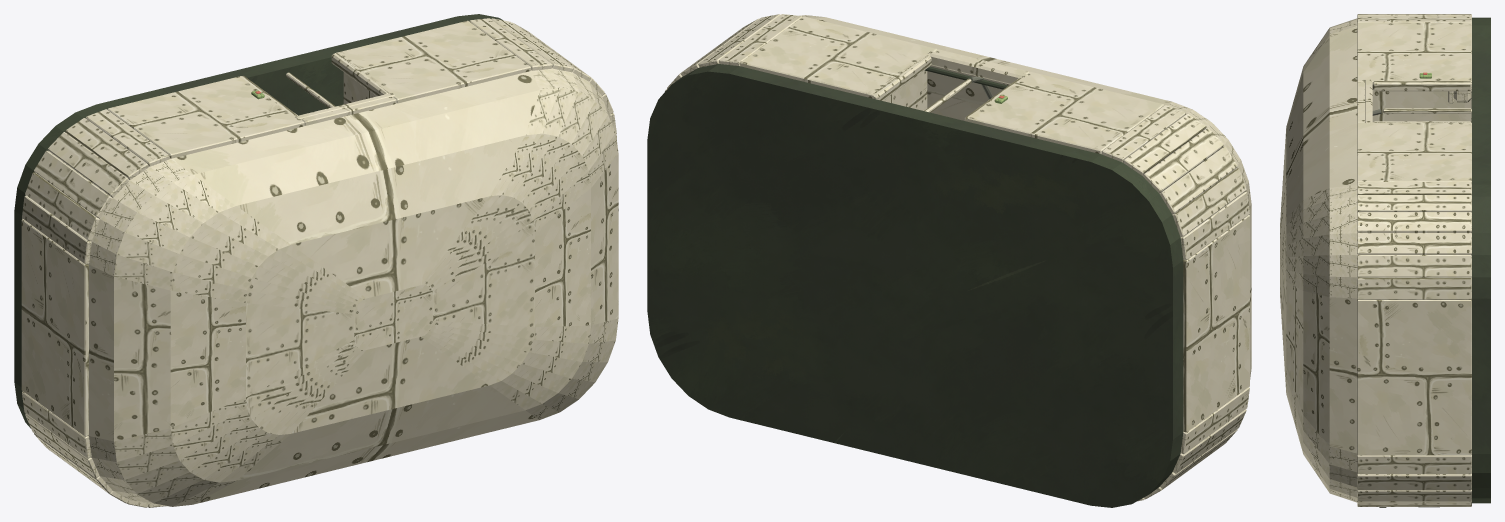
The model's file is ECHO7_06_Dormitorios_Sanitarios.obj.
3 views of the same model, side by side, from view 1: azimuth 30°, elevation 25°; view 2: azimuth 150°, elevation 25°; view 3: azimuth 270°, elevation 25° (orthographic). The views are drawn at different scales.
Parts seen in each view (by area): view 1: ECHO7_06_Dormitorios_Sanitarios__Techo_curvo_49, ECHO7_06_Dormitorios_Sanitarios__Techo_curvo_77, ECHO7_06_Dormitorios_Sanitarios__Pared_presion_27, ECHO7_06_Dormitorios_Sanitarios__Suelo_modulo_01, ECHO7_06_Dormitorios_Sanitarios__Techo_curvo_105, ECHO7_06_Dormitorios_Sanitarios__Pared_frente_01, ECHO7_06_Dormitorios_Sanitarios__Techo_curvo_84, ECHO7_06_Dormitorios_Sanitarios__Pared_frente_02, ECHO7_06_Dormitorios_Sanitarios__Techo_curvo_56, ECHO7_06_Dormitorios_Sanitarios__Techo_curvo_63, ECHO7_06_Dormitorios_Sanitarios__Techo_curvo_91, ECHO7_06_Dormitorios_Sanitarios__Techo_curvo_21 (+81 smaller); view 2: ECHO7_06_Dormitorios_Sanitarios__Suelo_modulo_01, ECHO7_06_Dormitorios_Sanitarios__Pared_presion_27, ECHO7_06_Dormitorios_Sanitarios__Pared_frente_02, ECHO7_06_Dormitorios_Sanitarios__Pared_frente_01, ECHO7_06_Dormitorios_Sanitarios__Pared_presion_24, ECHO7_06_Dormitorios_Sanitarios__Pared_presion_23, ECHO7_06_Dormitorios_Sanitarios__Pared_presion_25, ECHO7_06_Dormitorios_Sanitarios__Pared_presion_22, ECHO7_06_Dormitorios_Sanitarios__Techo_curvo_21, ECHO7_06_Dormitorios_Sanitarios__Pared_presion_26, ECHO7_06_Dormitorios_Sanitarios__Pared_presion_21, ECHO7_06_Dormitorios_Sanitarios__Pared_presion_01 (+8 smaller); view 3: ECHO7_06_Dormitorios_Sanitarios__Pared_presion_14, ECHO7_06_Dormitorios_Sanitarios__Suelo_modulo_01, ECHO7_06_Dormitorios_Sanitarios__Pared_frente_01, ECHO7_06_Dormitorios_Sanitarios__Pared_frente_02, ECHO7_06_Dormitorios_Sanitarios__Techo_curvo_21, ECHO7_06_Dormitorios_Sanitarios__Techo_curvo_14, ECHO7_06_Dormitorios_Sanitarios__Techo_curvo_49, ECHO7_06_Dormitorios_Sanitarios__Techo_curvo_42, ECHO7_06_Dormitorios_Sanitarios__Pared_presion_15, ECHO7_06_Dormitorios_Sanitarios__Pared_presion_16, ECHO7_06_Dormitorios_Sanitarios__Pared_presion_17, ECHO7_06_Dormitorios_Sanitarios__Pared_presion_27 (+39 smaller).
Part boxes in pixels (x1,y1,x2,y2): ECHO7_06_Dormitorios_Sanitarios__Techo_curvo_49: [193, 90, 539, 205]; ECHO7_06_Dormitorios_Sanitarios__Techo_curvo_77: [237, 135, 525, 244]; ECHO7_06_Dormitorios_Sanitarios__Pared_presion_27: [21, 219, 88, 436]; ECHO7_06_Dormitorios_Sanitarios__Suelo_modulo_01: [14, 14, 502, 428]; ECHO7_06_Dormitorios_Sanitarios__Techo_curvo_105: [291, 196, 489, 298]; ECHO7_06_Dormitorios_Sanitarios__Pared_frente_01: [335, 20, 531, 103]; ECHO7_06_Dormitorios_Sanitarios__Techo_curvo_84: [170, 290, 245, 427]; ECHO7_06_Dormitorios_Sanitarios__Pared_frente_02: [107, 76, 304, 158]; ECHO7_06_Dormitorios_Sanitarios__Techo_curvo_56: [114, 276, 170, 441]; ECHO7_06_Dormitorios_Sanitarios__Techo_curvo_63: [237, 385, 524, 480]; ECHO7_06_Dormitorios_Sanitarios__Techo_curvo_91: [291, 337, 489, 433]; ECHO7_06_Dormitorios_Sanitarios__Techo_curvo_21: [171, 71, 539, 174]; ECHO7_06_Dormitorios_Sanitarios__Suelo_modulo_01: [647, 64, 1183, 507]; ECHO7_06_Dormitorios_Sanitarios__Pared_presion_27: [1183, 215, 1249, 432]; ECHO7_06_Dormitorios_Sanitarios__Pared_frente_02: [967, 72, 1164, 154]; ECHO7_06_Dormitorios_Sanitarios__Pared_frente_01: [740, 16, 937, 98]; ECHO7_06_Dormitorios_Sanitarios__Pared_presion_24: [1159, 146, 1237, 214]; ECHO7_06_Dormitorios_Sanitarios__Pared_presion_23: [1143, 128, 1223, 193]; ECHO7_06_Dormitorios_Sanitarios__Pared_presion_25: [1172, 168, 1246, 236]; ECHO7_06_Dormitorios_Sanitarios__Pared_presion_22: [1123, 113, 1206, 175]; ECHO7_06_Dormitorios_Sanitarios__Techo_curvo_21: [814, 17, 1172, 105]; ECHO7_06_Dormitorios_Sanitarios__Pared_presion_26: [1180, 191, 1249, 260]; ECHO7_06_Dormitorios_Sanitarios__Pared_presion_21: [1101, 105, 1185, 162]; ECHO7_06_Dormitorios_Sanitarios__Pared_presion_01: [1180, 387, 1249, 454]; ECHO7_06_Dormitorios_Sanitarios__Pared_presion_14: [1357, 299, 1471, 455]; ECHO7_06_Dormitorios_Sanitarios__Suelo_modulo_01: [1472, 17, 1490, 503]; ECHO7_06_Dormitorios_Sanitarios__Pared_frente_01: [1357, 122, 1471, 182]; ECHO7_06_Dormitorios_Sanitarios__Pared_frente_02: [1357, 22, 1471, 82]; ECHO7_06_Dormitorios_Sanitarios__Techo_curvo_21: [1329, 26, 1357, 187]; ECHO7_06_Dormitorios_Sanitarios__Techo_curvo_14: [1329, 297, 1357, 453]; ECHO7_06_Dormitorios_Sanitarios__Techo_curvo_49: [1303, 35, 1329, 199]; ECHO7_06_Dormitorios_Sanitarios__Techo_curvo_42: [1303, 291, 1329, 445]; ECHO7_06_Dormitorios_Sanitarios__Pared_presion_15: [1357, 277, 1471, 299]; ECHO7_06_Dormitorios_Sanitarios__Pared_presion_16: [1357, 255, 1471, 277]; ECHO7_06_Dormitorios_Sanitarios__Pared_presion_17: [1357, 232, 1471, 254]; ECHO7_06_Dormitorios_Sanitarios__Pared_presion_27: [1372, 90, 1471, 122].
Bounding box in the file's own units: 16.22 × 10.35 × 6.15.
6 materials, 6 textured.
